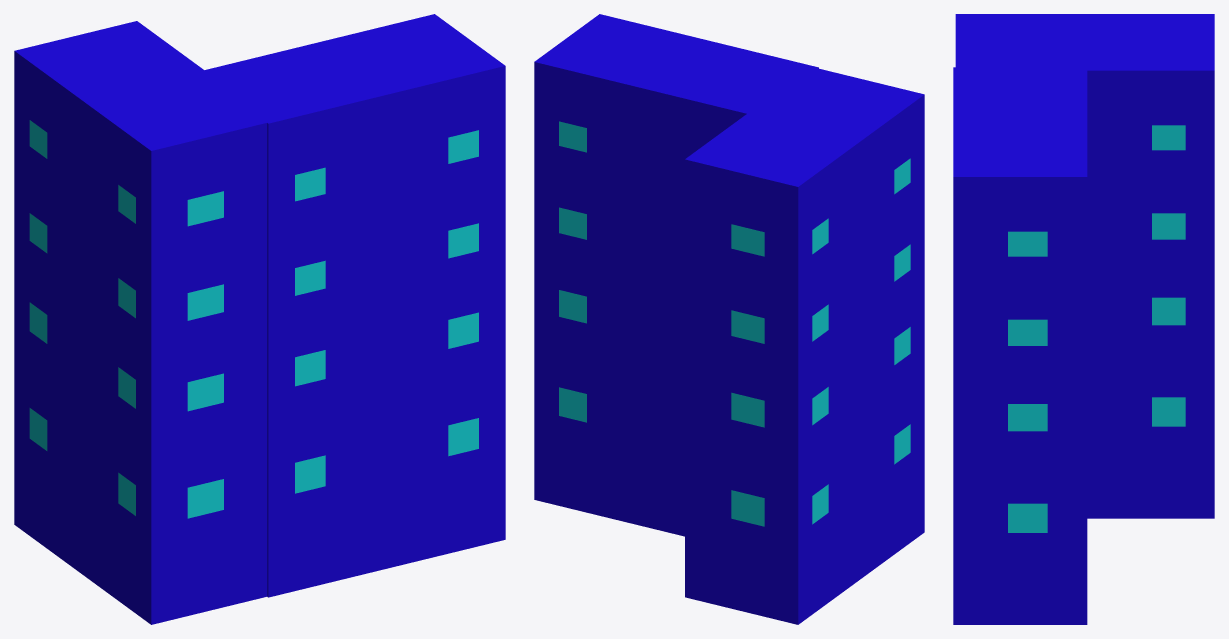
The picture shows the model from 3 angles, left to right: view 1: azimuth 30°, elevation 25°; view 2: azimuth 150°, elevation 25°; view 3: azimuth 270°, elevation 25°; orthographic projection. The views are drawn at different scales.
Parts seen in each view (by area): view 1: Cube, Cube.001; view 2: Cube, Cube.001; view 3: Cube.001, Cube.
Boxes of the visible parts, box(x1,y1,x2,y2) form: Cube: box(14, 21, 273, 624); Cube.001: box(205, 14, 505, 597); Cube: box(685, 67, 924, 624); Cube.001: box(534, 14, 818, 536); Cube.001: box(953, 67, 1087, 624); Cube: box(955, 14, 1214, 518).
Size of the model in its own units: 576 by 738 by 390.
